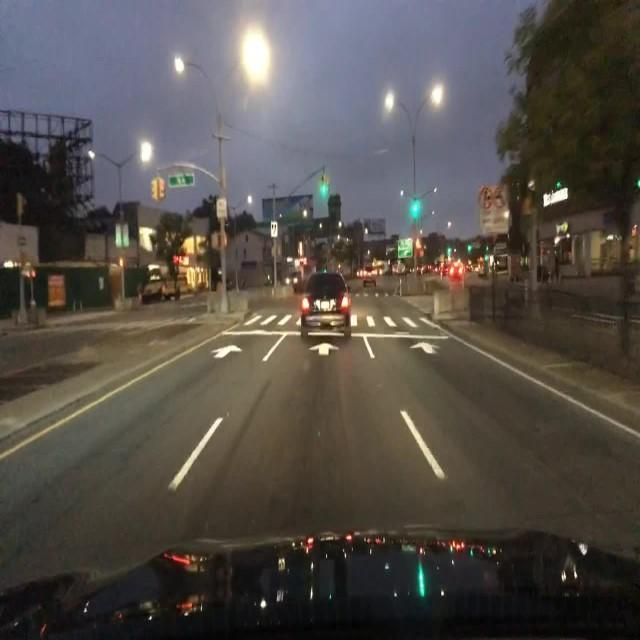normal: (299, 272, 351, 313)
